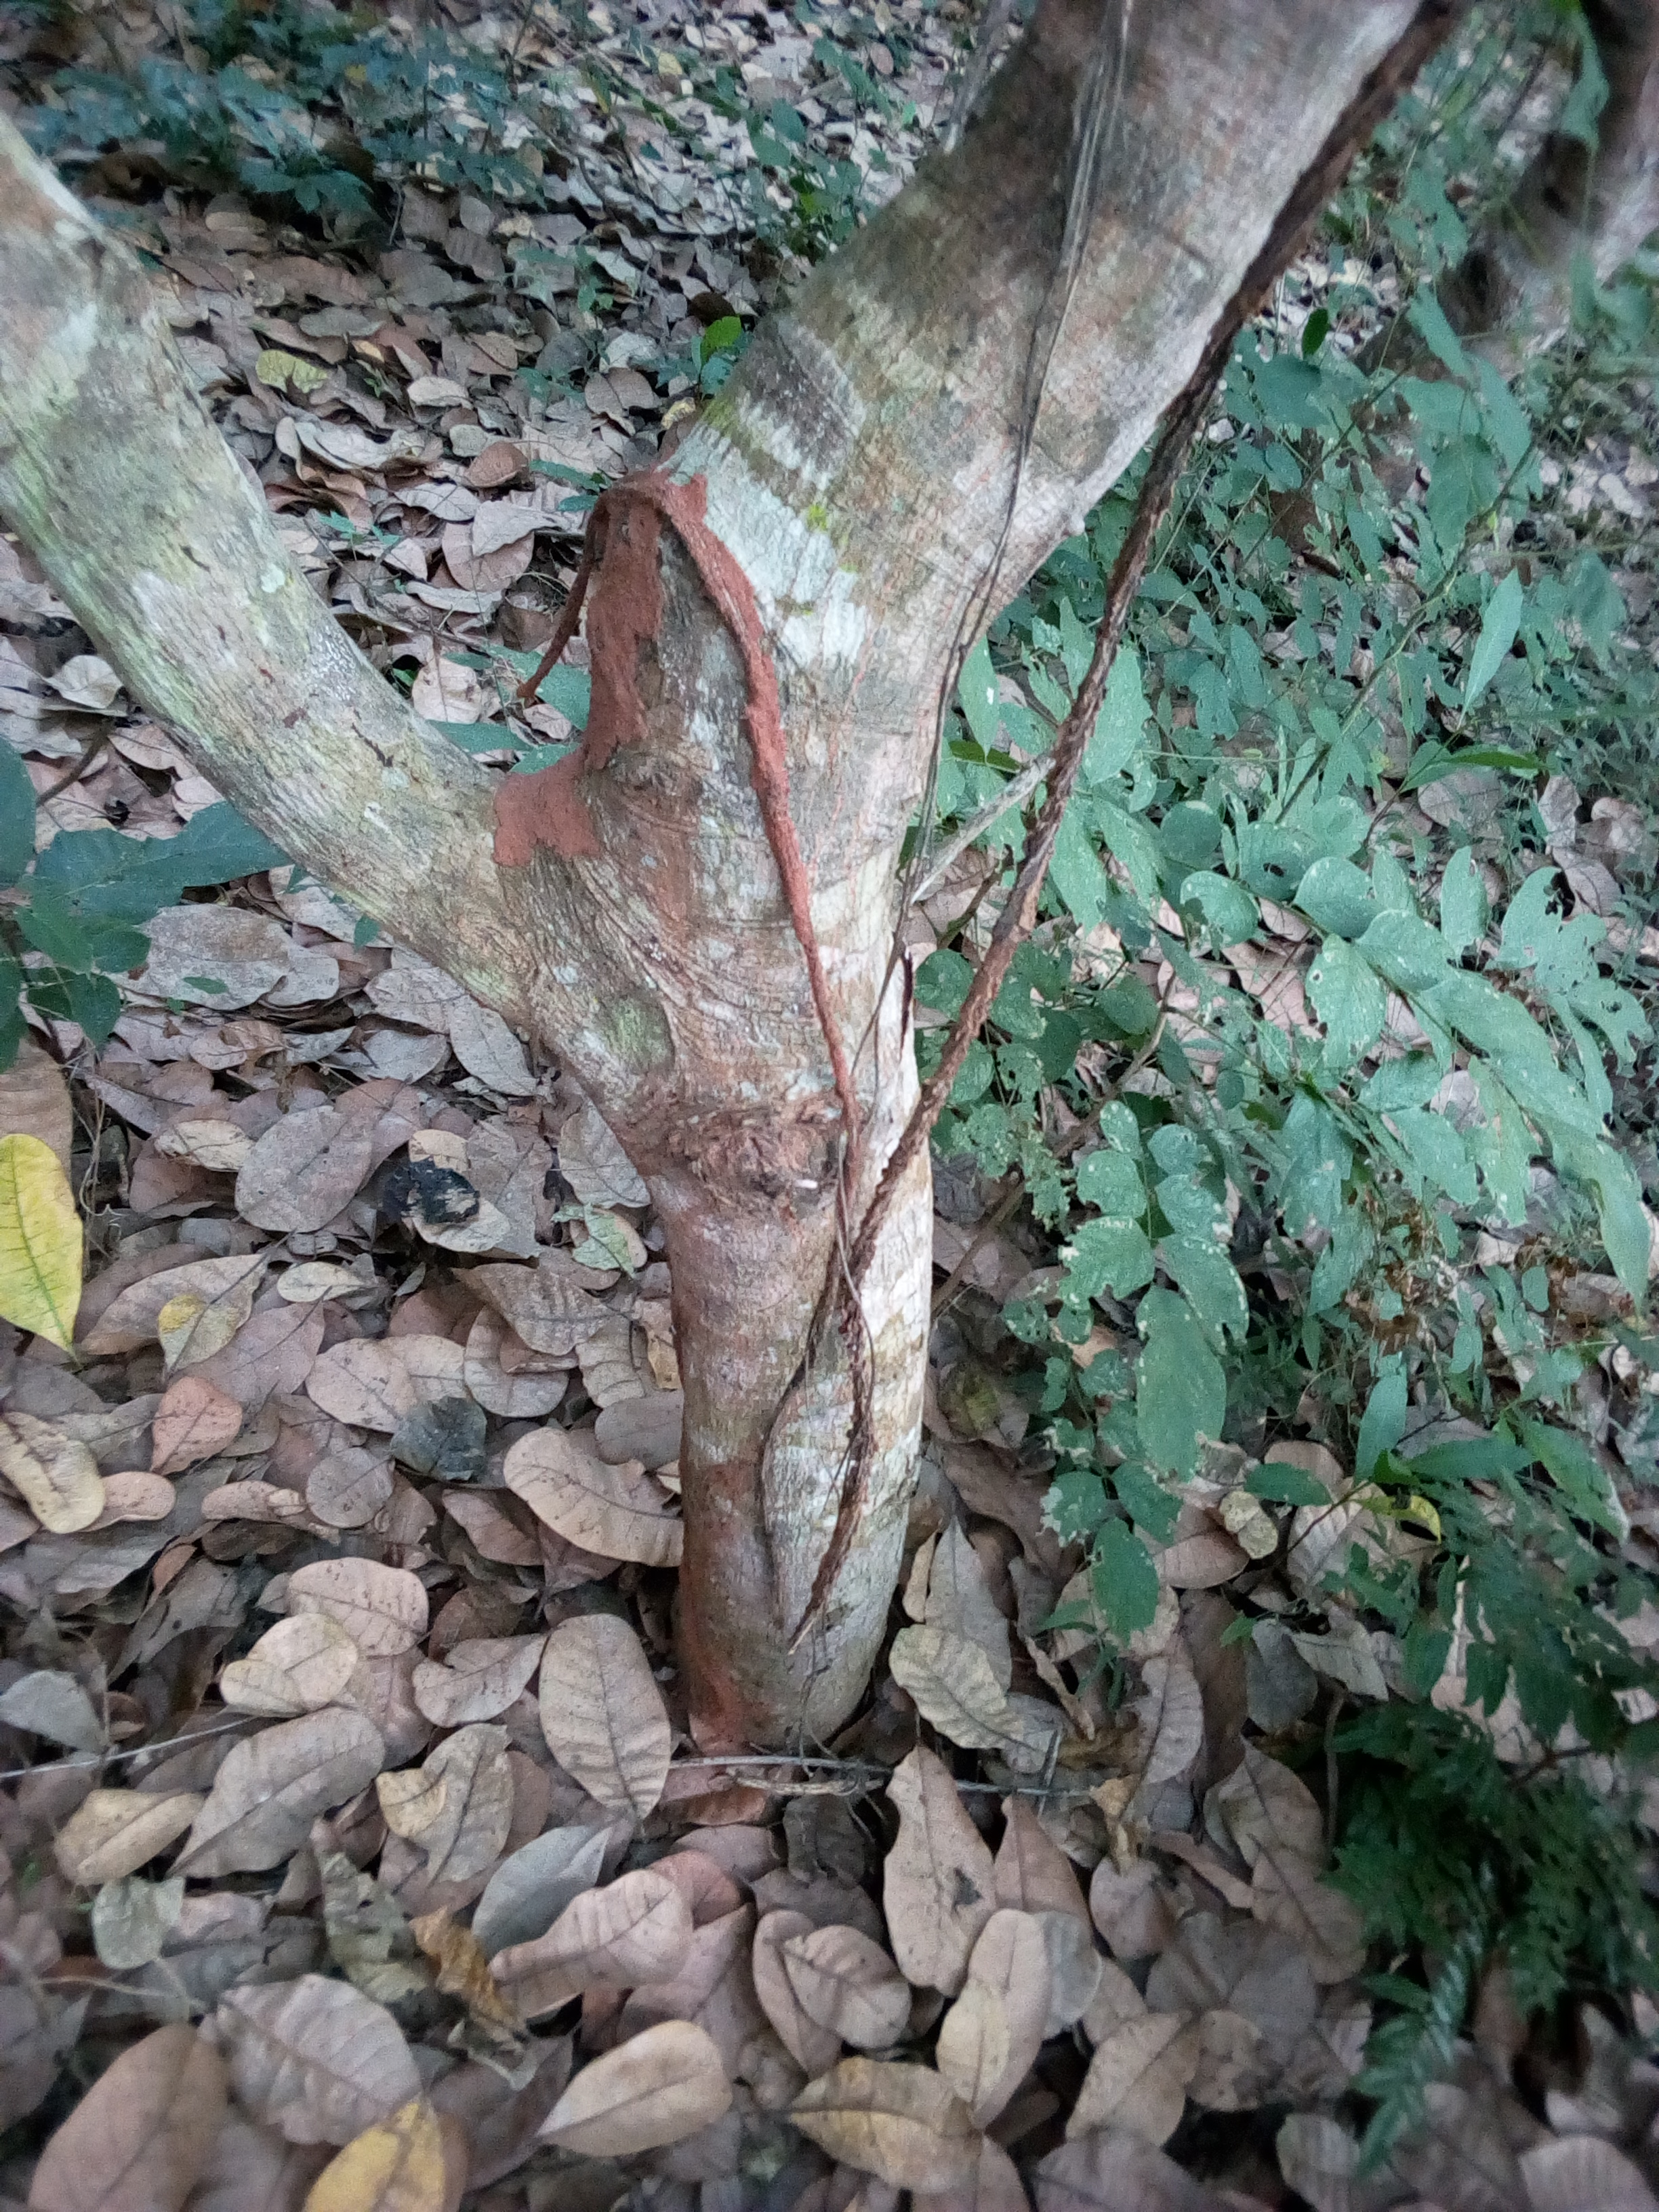Termites: (488, 453, 805, 902)
